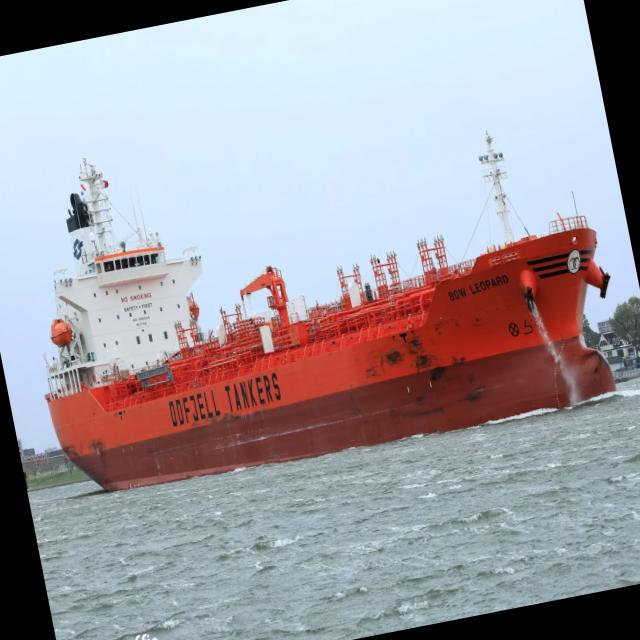Tanker: (45, 134, 615, 490)
